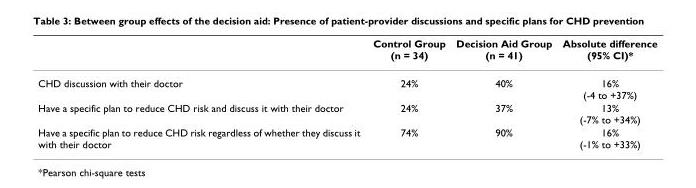table: (37, 36, 656, 149)
table column: (37, 36, 365, 149), (450, 36, 556, 149), (556, 36, 656, 149), (365, 36, 450, 149)
table column header: (37, 36, 656, 68)
table row: (37, 36, 656, 68), (37, 68, 656, 100), (37, 100, 656, 125), (37, 125, 656, 149)
